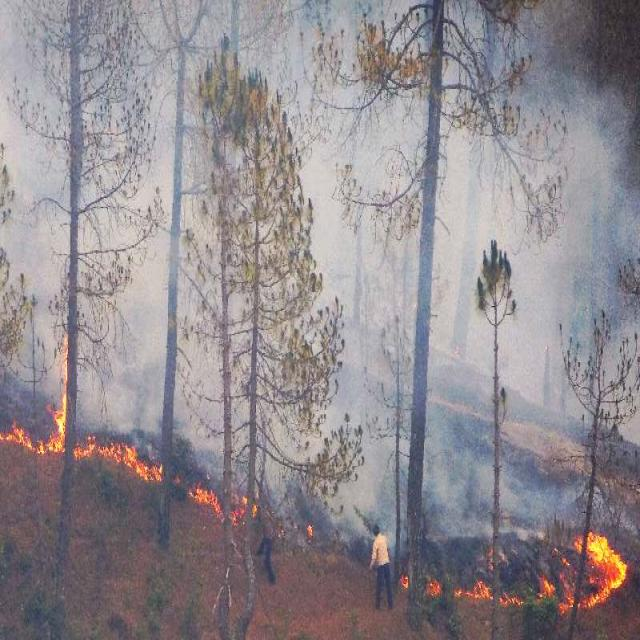fire: (578, 532, 626, 612), (2, 400, 68, 453), (83, 434, 148, 470)
